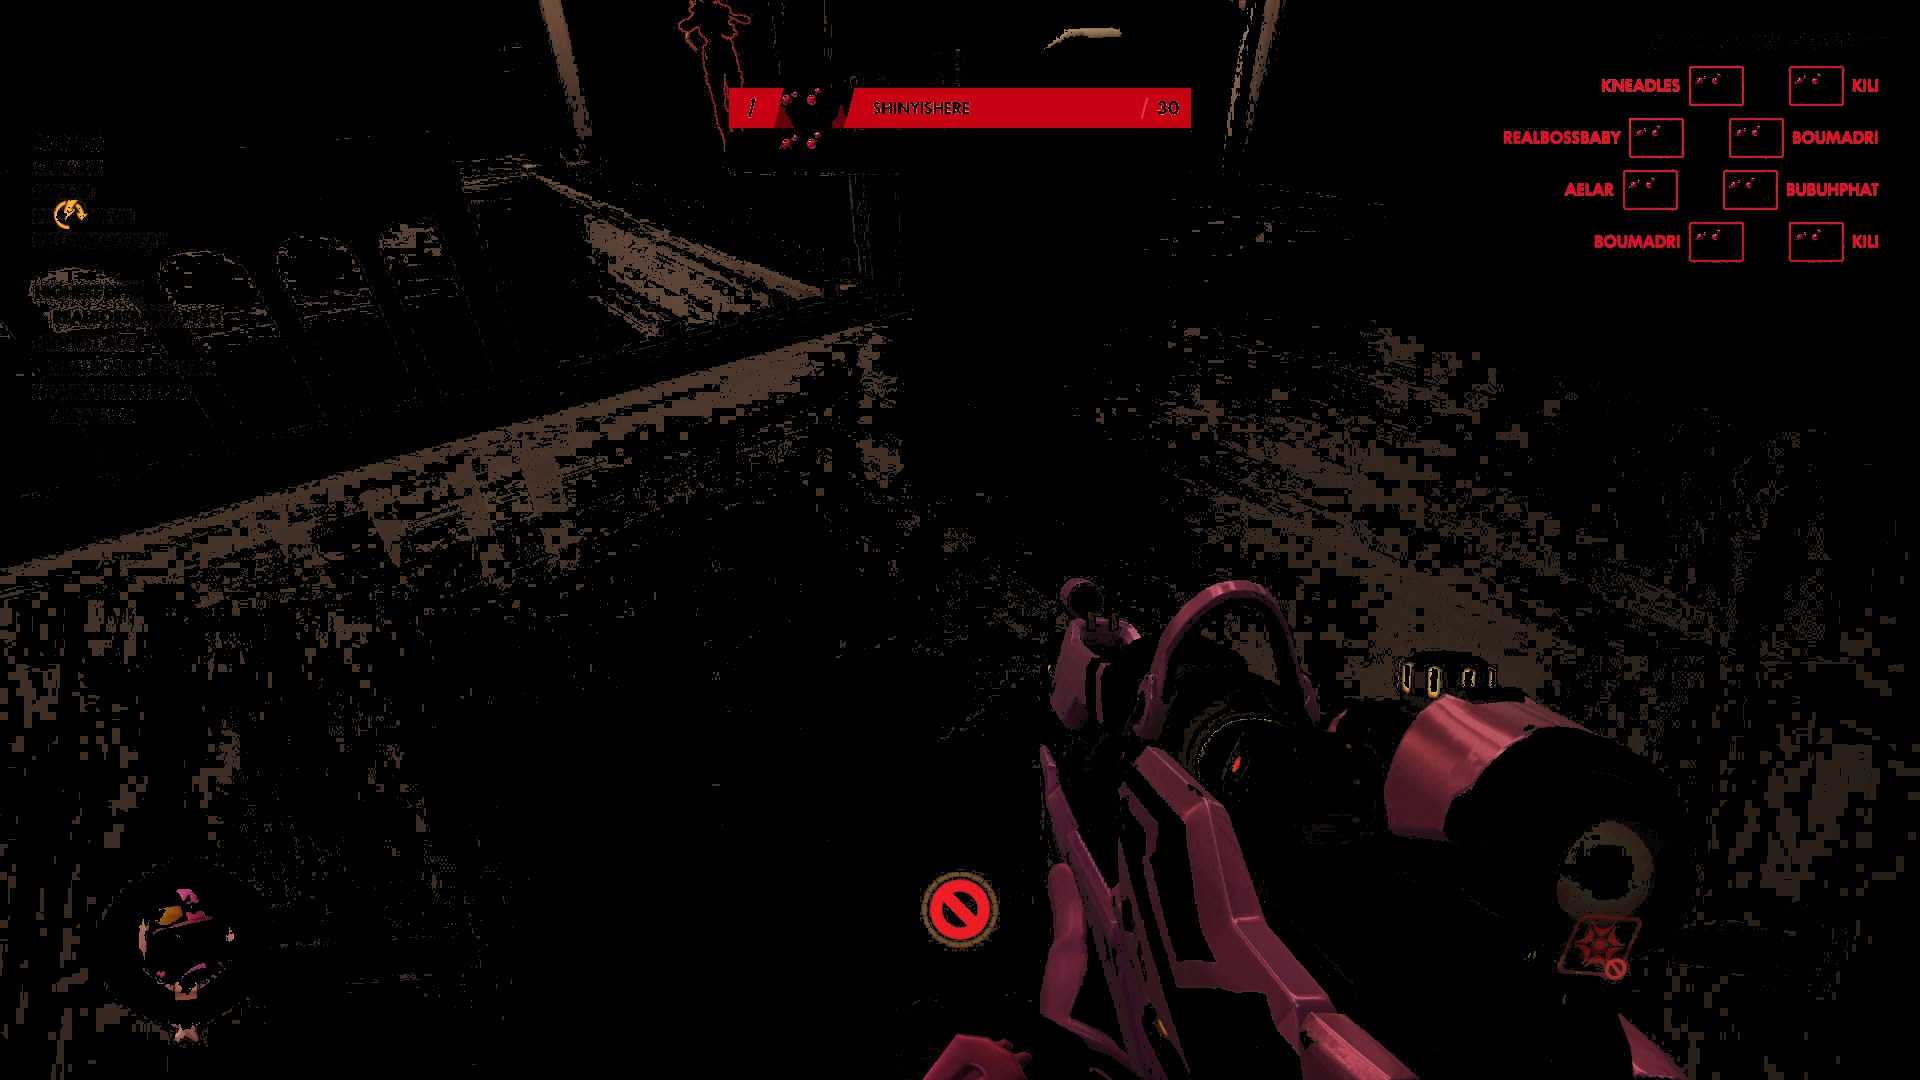widowmaker: (671, 1, 756, 160)
